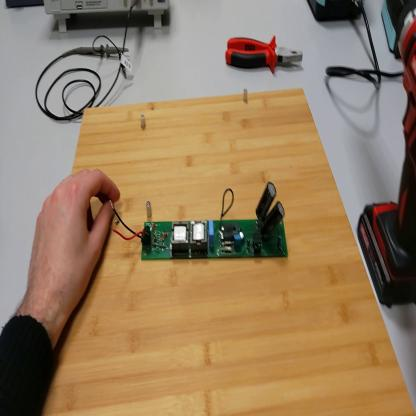electric screwdriver: (355, 2, 416, 309)
hand: (26, 166, 119, 320)
high voltage board: (111, 177, 289, 264)
oscilloscope: (44, 1, 172, 40)
oscilloscope probe tip: (71, 46, 131, 61)
pliers: (224, 37, 304, 76)
socket: (6, 3, 44, 8)
welder base: (379, 1, 416, 57)
welder station: (309, 1, 364, 30)
working area: (39, 88, 416, 413)
